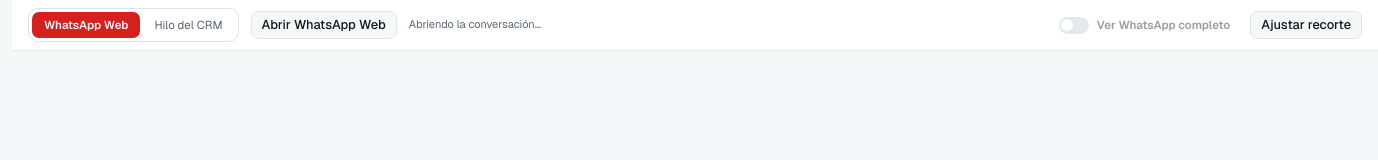
Test: CentroConversacion: selector y recuerdo por usuario › Hilo del CRM muestra el hilo, oculta los controles de WhatsApp, reporta null y se recuerda
What coordinates should you click on to do the following:
click the button "Hilo del CRM"
I would click on:
 (189, 25)
Its box is [142,12,235,38].
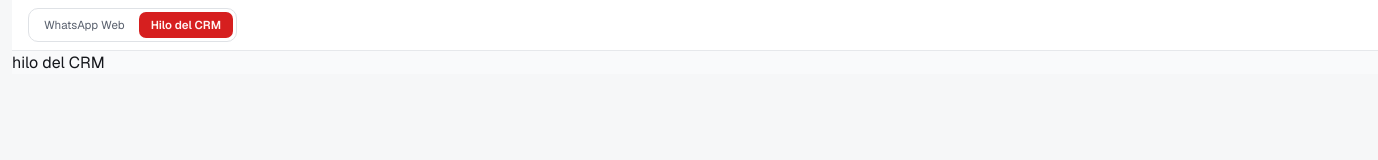
Now the text "hilo del CRM" is shown, box [12,52,105,73]
Now the switch is gone
Now the button "Abrir WhatsApp Web" is gone
